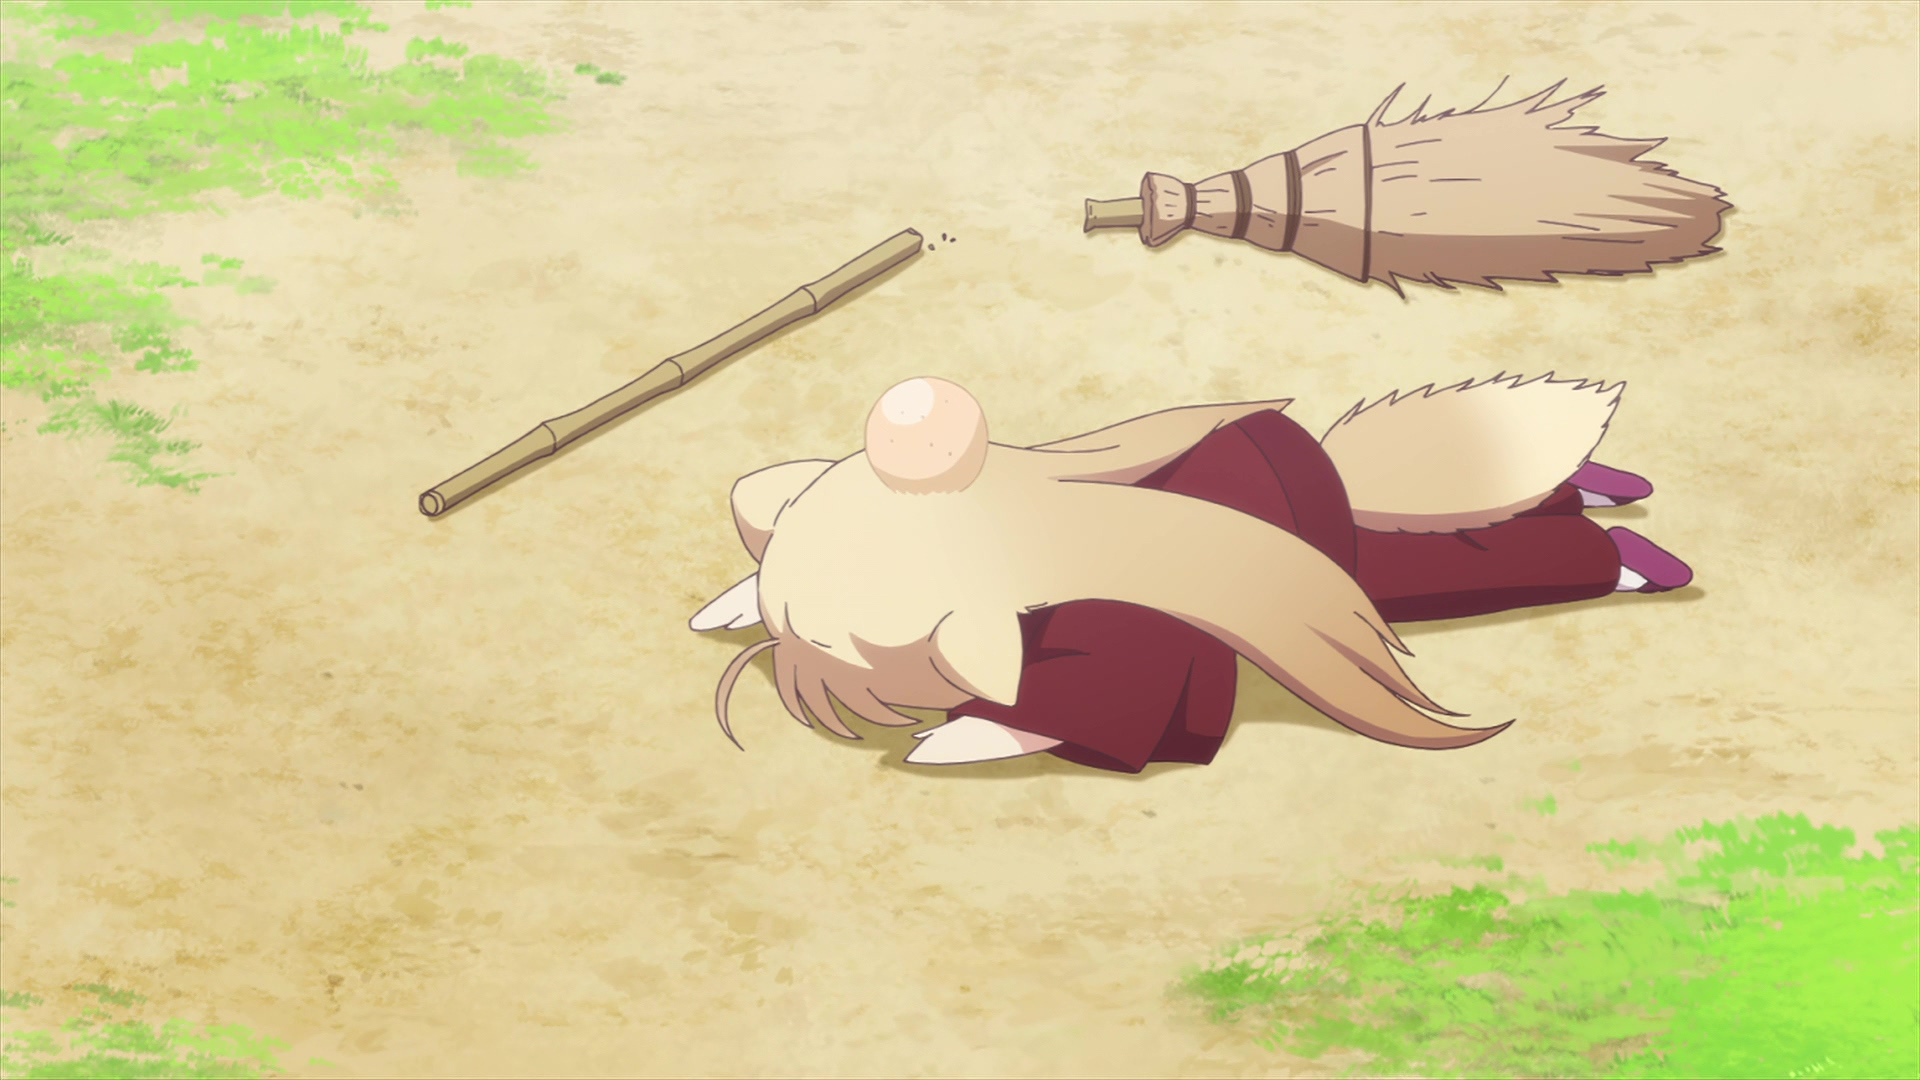柚: (692, 372, 1697, 771)
